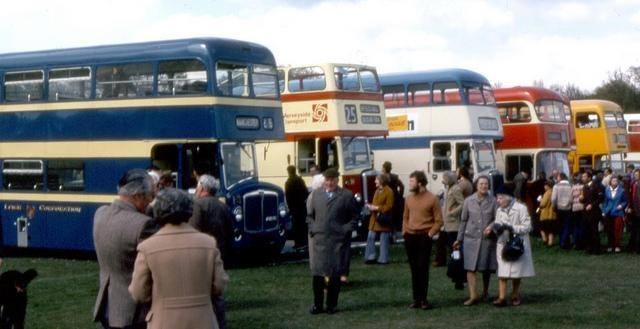bus: (0, 36, 296, 258), (277, 62, 393, 206), (379, 70, 505, 202), (494, 86, 578, 191), (572, 97, 634, 172), (599, 114, 640, 176)
